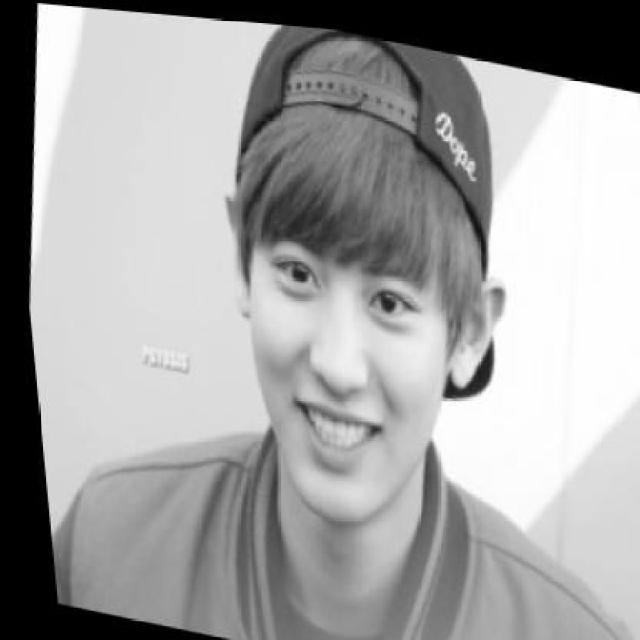hat: (198, 14, 531, 406)
